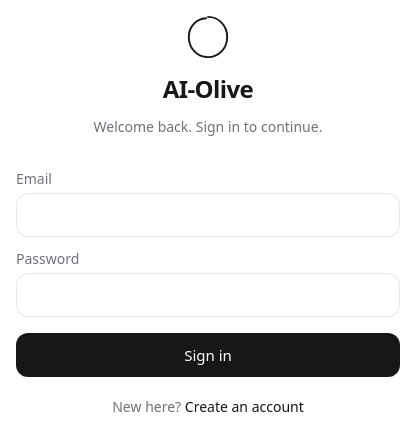
Test: LoginPage › can switch to register mode
The width and height of the screenshot is (417, 435).
Click the button "Create an account".
click(244, 407)  # box [185,397,304,417]
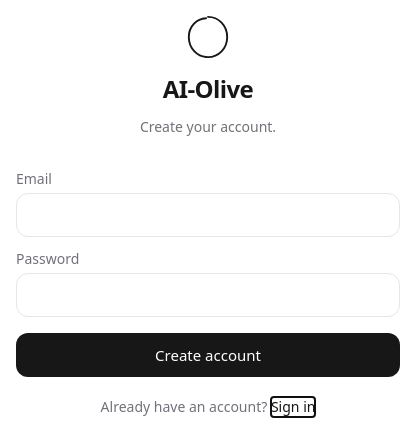
Check: the button "Create account" is shown, box [16,333,400,377]
